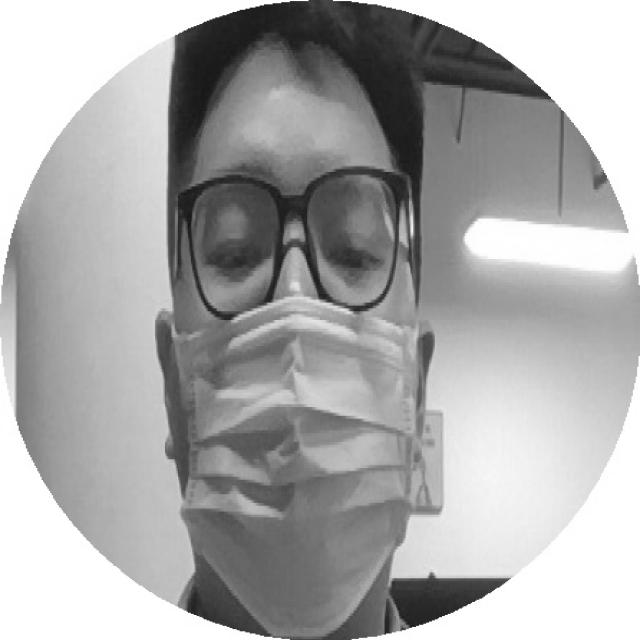fake: (163, 293, 432, 640)
real: (166, 184, 414, 285)
